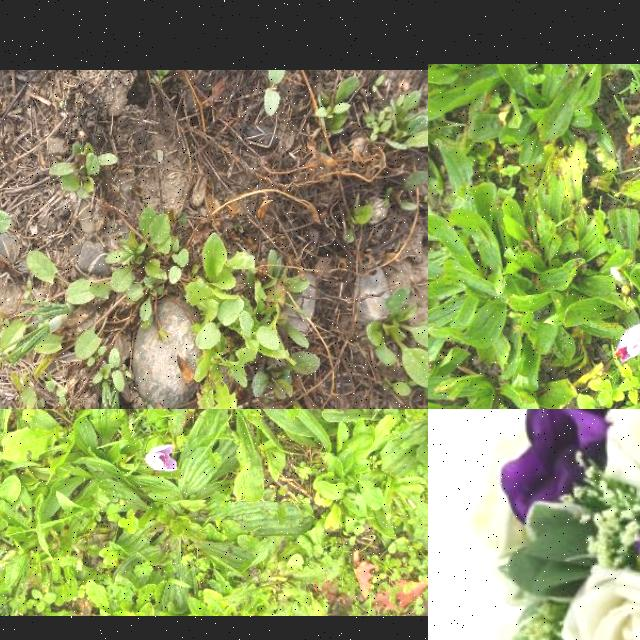flower: (613, 322, 640, 364), (146, 445, 178, 471)
